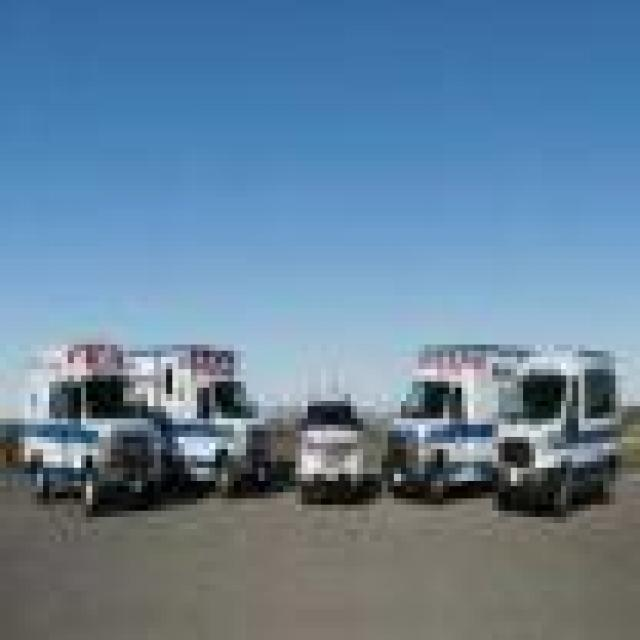emergency-vehicle: (22, 344, 164, 518), (117, 348, 277, 502), (382, 342, 536, 496), (492, 351, 622, 524), (295, 384, 363, 502)
